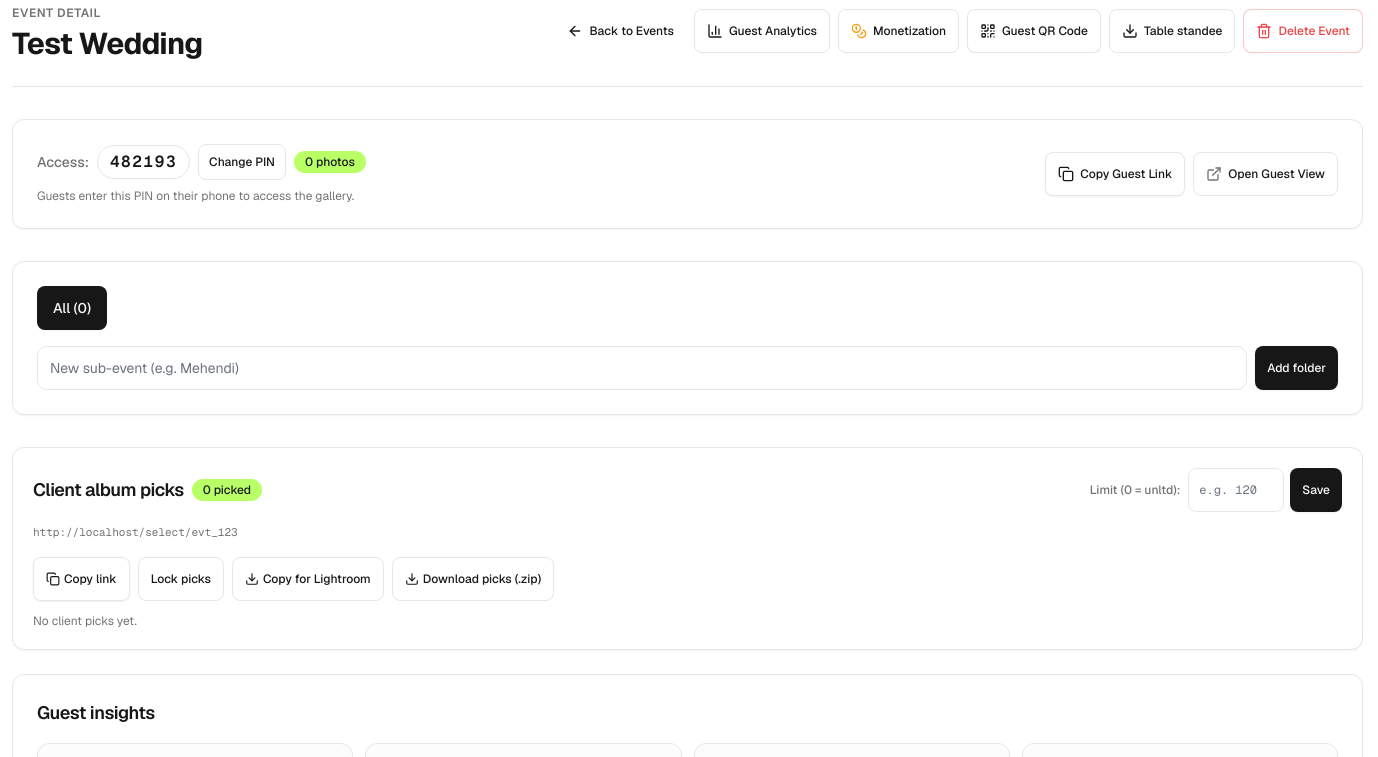
Test: InEvent PIN update flow › updating to 'No PIN' sends created_id and updatePin: '' to /events/:id
# Click "Change" PIN button
Step 1. Click the button "Change PIN" → [242, 162], box [198, 144, 286, 180]
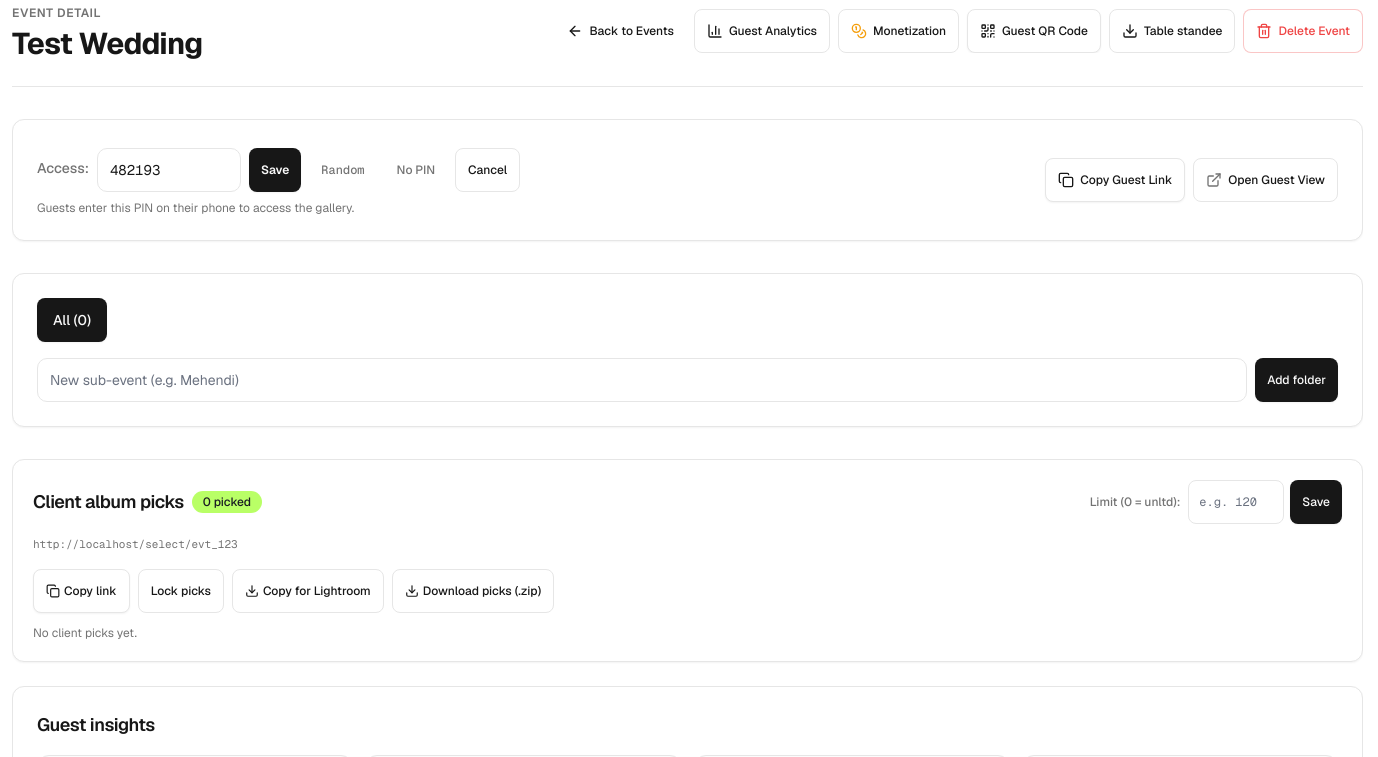
Expected: the field with placeholder "Empty = No PIN" is shown, [97, 148, 241, 192]
# Click "No PIN" button
Step 2. Click the button "No PIN" → [416, 170], box [385, 148, 447, 192]
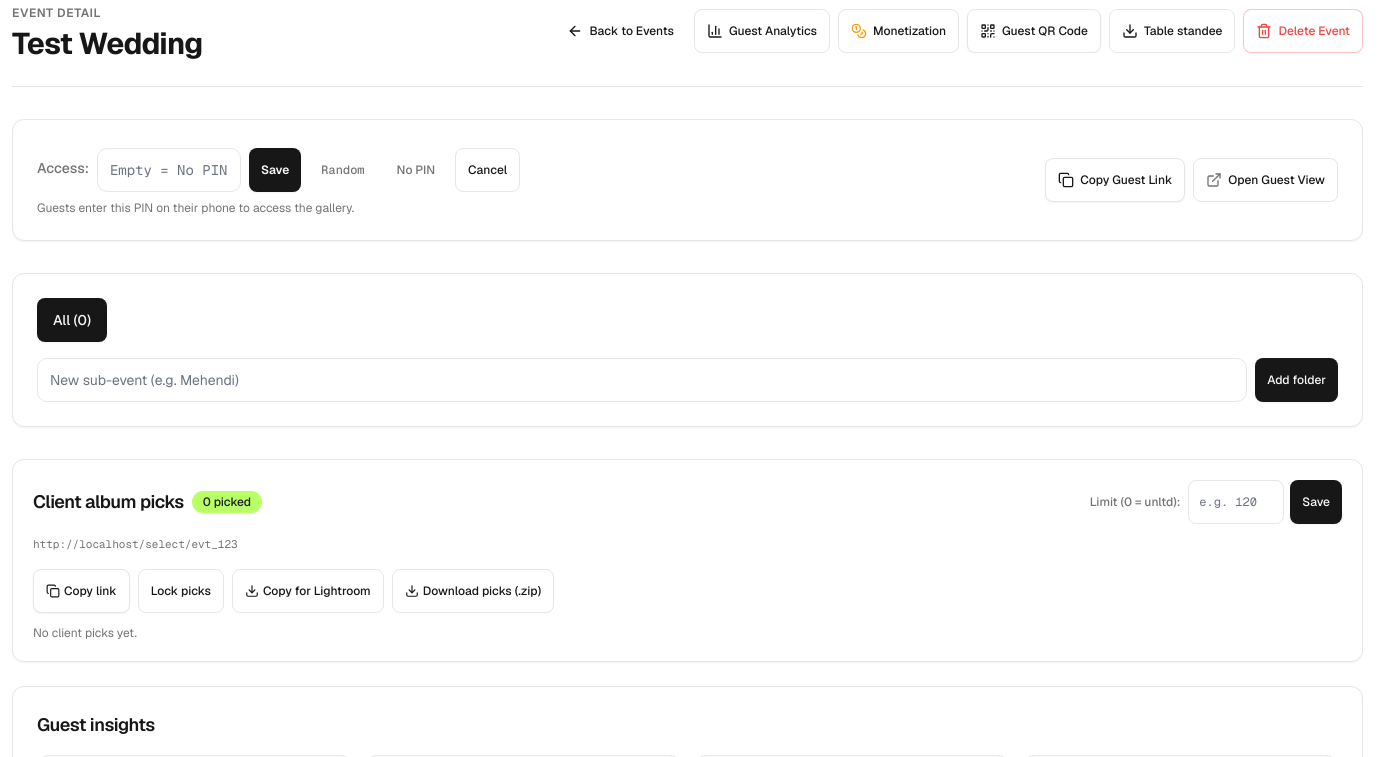
Expected: the button "Save" in the row of "Access:" is shown
Expected: the field with placeholder "Empty = No PIN" is empty, [97, 148, 241, 192]
Step 3. Click the button "Save" in the row of "Access:" → [275, 170], box [249, 148, 301, 192]
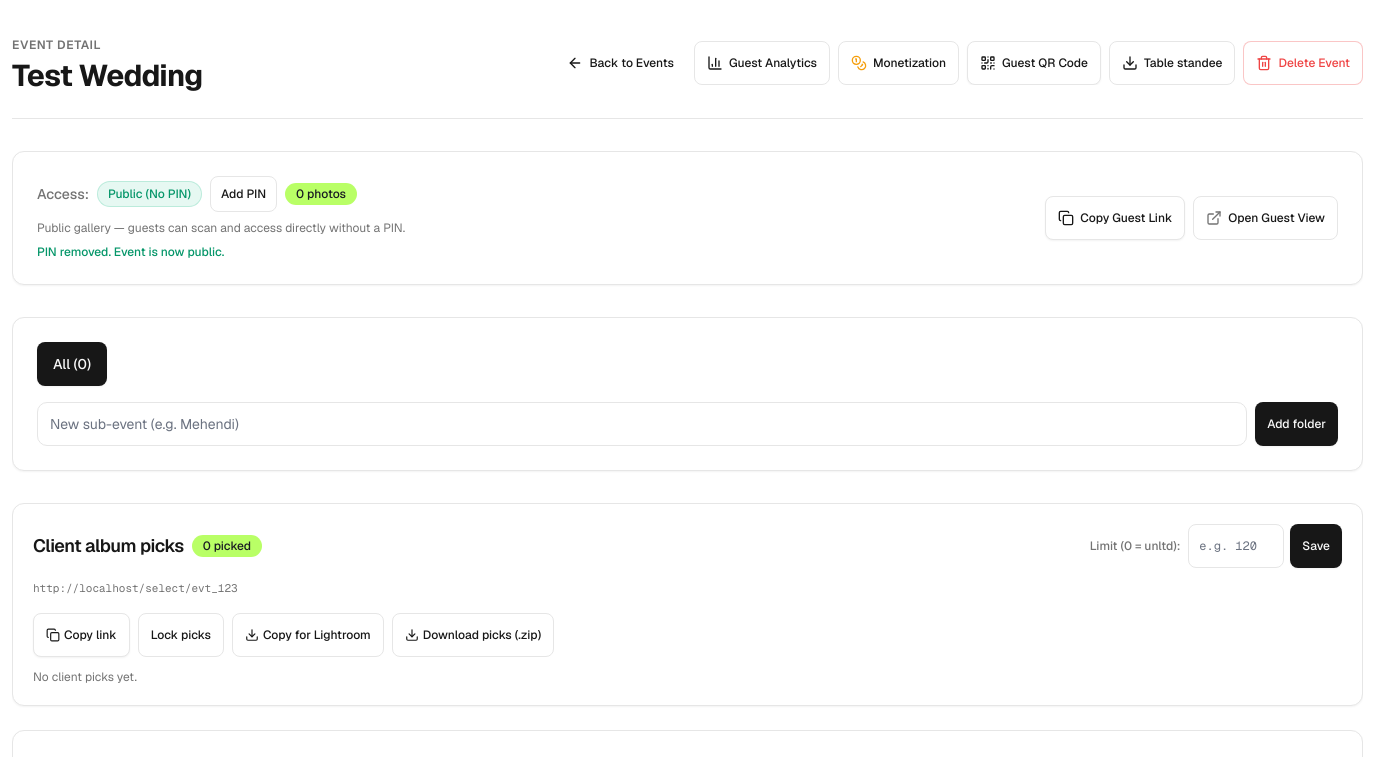
Expected: the text "PIN removed. Event is now public." is shown, [37, 244, 224, 260]
